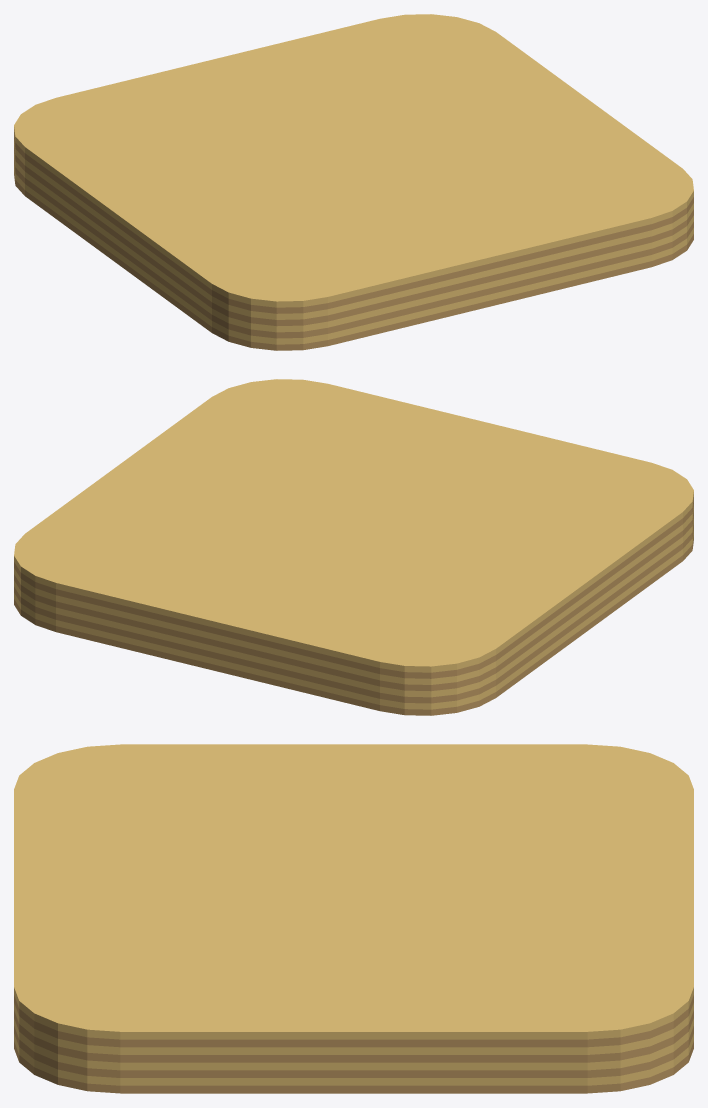
Rendered from Level.fbx.
3 renders of one model, top to bottom at view 1: azimuth 30°, elevation 25°; view 2: azimuth 150°, elevation 25°; view 3: azimuth 270°, elevation 25°, orthographic. The views are drawn at different scales.
Parts seen in each view (by area): view 1: Cube; view 2: Cube; view 3: Cube.
Part boxes in pixels (x1,y1,x2,y2): Cube: (14, 14, 693, 350); Cube: (14, 379, 693, 715); Cube: (14, 744, 693, 1093).
Size of the model in its own units: 200 by 20 by 200.
